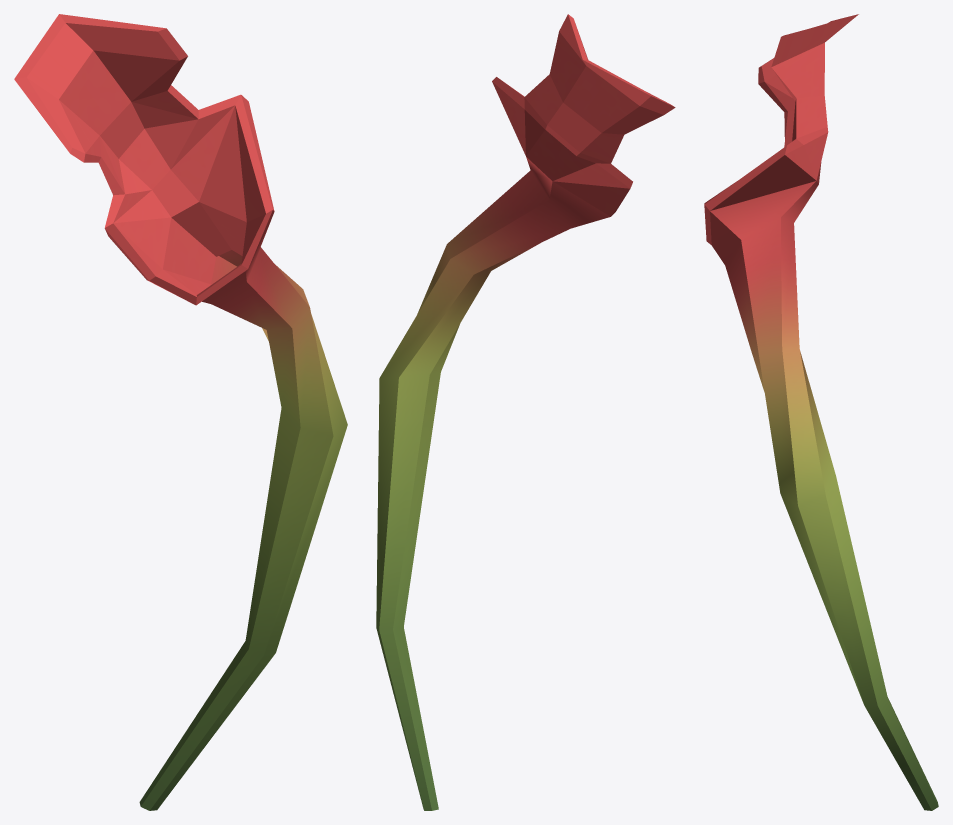
The model's file is plantJungle4.fbx.
3 views of the same model, side by side, from view 1: azimuth 30°, elevation 25°; view 2: azimuth 150°, elevation 25°; view 3: azimuth 270°, elevation 25° (orthographic). The views are drawn at different scales.
Parts seen in each view (by area): view 1: plantJungle4; view 2: plantJungle4; view 3: plantJungle4.
Boxes of the visible parts, bbox=[...] form: plantJungle4: bbox=[14, 14, 347, 810]; plantJungle4: bbox=[376, 14, 675, 810]; plantJungle4: bbox=[704, 14, 938, 810].
Size of the model in its own units: 368 by 961 by 275.
